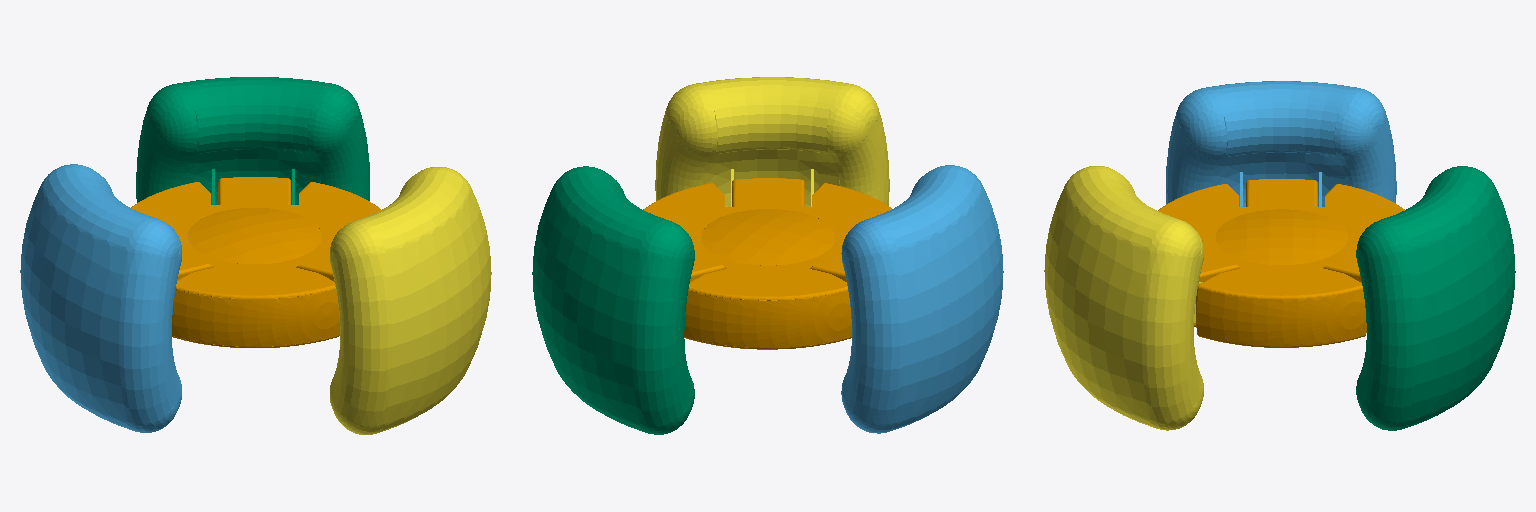
The robot description file, URDF, robot "galago_legs":
<?xml version="1.0"?>
	<!-- a test of leg, see reference from ODE discussion
      http://www.ode.org/old_list_archives/2006-March/018014.html
      where stiffness and damping are related to joint limit cfm and erp
      public static void Calc(float legConstant, float dampingCofficient, float
      sprungMass, out float erp, out float cfm)
      {
                  float r = 2.0f * dampingCofficient * (float)Math.Sqrt(sprungMass
      * legConstant);
                  float hk = Scene.OdeTimeStep * legConstant;

                  erp = hk / (hk + r);
                  cfm = 1.0f / (hk + r);
      }
      in the end,
      erp = dt * kp / ( dt * kp + kd )
      cfm = 1 / ( dt * kp + kd )
    -->

<robot name="galago_legs">
	<link name='disk'>
		<inertial>
			<origin xyz="0 0 0" rpy="0 0 1.57"/>
			<mass value="7.0"/>
			<inertia ixx="0.1" ixy="0.0" ixz="0.0" iyy="0.1" iyz="0.0" izz="0.1" />
		</inertial>
		<collision name='disk_collision'>
			<origin xyz="0 0 0" rpy="0 0 1.57"/>
			<geometry>
				<mesh filename="package://galago_gazebo_models/meshes/hopter/disk.dae" scale="0.01 0.01 0.01"/>
			</geometry>
		</collision>
		<visual name='disk_visual'>
			<origin xyz="0 0 0" rpy="0 0 1.57"/>
			<geometry>
				<mesh filename="package://galago_gazebo_models/meshes/hopter/disk.dae" scale="0.01 0.01 0.01"/>
			</geometry>
			<material name="orange"/>
		</visual>
		<gazebo>
			<static>false</static>
			<gravity>true</gravity>
			<self_collide>false</self_collide>
			<kinematic>false</kinematic>
			<velocity_decay>
				<linear>0.0</linear>
				<angular>0.0</angular>
			</velocity_decay>
			<max_contacts>250</max_contacts>
			<surface>
				<friction>
					<ode>
						<mu>0.2</mu>
						<mu2>0.2</mu2>
						<fdir1>1.0 0 0</fdir1>
						<slip1>0</slip1>
						<slip2>0</slip2>
					</ode>
				</friction>
				<contact>
					<ode>
						<kp>111.1111</kp>
						<kd>0.0</kd>
						<max_vel>10000.0</max_vel>
						<min_depth>0.0</min_depth>
					</ode>
				</contact>
			</surface>
		</gazebo>
	</link>
	
	<link name='leg_a'>
		<inertial>
			<origin xyz="0 0.11 0" rpy="0 0 0"/>
			<mass value="1.0"/>
			<inertia ixx="0.01" ixy="0.0" ixz="0.0" iyy="0.01" iyz="0.0" izz="0.01" />
		</inertial>
		<collision name='leg_a_collision'>
			<origin xyz="0 0.11 0" rpy="0 0 0"/>
			<geometry>
				<mesh filename="package://galago_gazebo_models/meshes/hopter/leg_support.dae" scale="0.01 0.01 0.01"/>
			</geometry>
			<surface>
				<bounce restitution_coefficient="1.0" threshold="0.01"/>
			</surface>
		</collision>
		<visual name='leg_a_visual'>
			<origin xyz="0 0.11 0" rpy="0 0 0"/>
			<geometry>
				<mesh filename="package://galago_gazebo_models/meshes/hopter/leg_support.dae" scale="0.01 0.01 0.01"/>
			</geometry>
			<material name="orange"/>
		</visual>
		<!--gazebo>
			<static>false</static>
			<gravity>true</gravity>
			<self_collide>false</self_collide>
			<kinematic>false</kinematic>
			<velocity_decay>
				<linear>0.0</linear>
				<angular>0.0</angular>
			</velocity_decay>
			<max_contacts>250</max_contacts>
			<surface>
				<friction>
					<ode>
						<mu>0.2</mu>
						<mu2>0.2</mu2>
						<fdir1>1.0 0 0</fdir1>
						<slip1>0</slip1>
						<slip2>0</slip2>
					</ode>
				</friction>
				<contact>
					<ode>
						<kp>111.1111</kp>
						<kd>0.0</kd>
						<max_vel>10000.0</max_vel>
						<min_depth>0.0</min_depth>
					</ode>
				</contact>
			</surface>
		</gazebo-->
	</link>
	
	<gazebo reference="leg_a">
		<mu1 value="100.0" />
		<mu2 value="0.1" />
		<!-- kp value="10000000.0" / -->
		<maxVel value="10.0"/>
		<kp value="100000000.0" />
		<kd value="1.0" />
		<fdir1 value="1 0 0" />
		<material>Gazebo/Grey</material>
		<turnGravityOff>false</turnGravityOff>
	</gazebo>
	
	<joint name="leg_a_joint" type="revolute">
		<parent link="disk"/>
		<child link="leg_a"/>
		<origin xyz="-0.095 0 0" rpy="0 1.57 1.57"/>
		<axis xyz="0 0 1"/>
		<limit lower="0" upper="0" effort="1000" velocity="10"/>
		<dynamics dumping="0.5" friction="0.0"/>
	</joint>
	
	<link name='leg_b'>
		<inertial>
			<origin xyz="0 0.11 0" rpy="0 0 0"/>
			<mass value="1.0"/>
			<inertia ixx="0.01" ixy="0.0" ixz="0.0" iyy="0.01" iyz="0.0" izz="0.01" />
		</inertial>
		<collision name='leg_b_collision'>
			<origin xyz="0 0.11 0" rpy="0 0 0"/>
			<geometry>
				<mesh filename="package://galago_gazebo_models/meshes/hopter/leg_support.dae" scale="0.01 0.01 0.01"/>
			</geometry>
			<surface>
				<bounce restitution_coefficient="1.0" threshold="0.01"/>
			</surface>
		</collision>
		<visual name='leg_b_visual'>
			<origin xyz="0 0.11 0" rpy="0 0 0"/>
			<geometry>
				<mesh filename="package://galago_gazebo_models/meshes/hopter/leg_support.dae" scale="0.01 0.01 0.01"/>
			</geometry>
			<material name="orange"/>
		</visual>
		<!--gazebo>
			<static>false</static>
			<gravity>true</gravity>
			<self_collide>false</self_collide>
			<kinematic>false</kinematic>
			<velocity_decay>
				<linear>0.0</linear>
				<angular>0.0</angular>
			</velocity_decay>
			<max_contacts>250</max_contacts>
			<surface>
				<friction>
					<ode>
						<mu>0.2</mu>
						<mu2>0.2</mu2>
						<fdir1>1.0 0 0</fdir1>
						<slip1>0</slip1>
						<slip2>0</slip2>
					</ode>
				</friction>
				<contact>
					<ode>
						<kp>111.1111</kp>
						<kd>0.0</kd>
						<max_vel>10000.0</max_vel>
						<min_depth>0.0</min_depth>
					</ode>
				</contact>
			</surface>
		</gazebo-->
	</link>
	
	<gazebo reference="leg_b">
		<mu1 value="100.0" />
		<mu2 value="0.1" />
		<!-- kp value="10000000.0" / -->
		<maxVel value="10.0"/>
		<kp value="100000000.0" />
		<kd value="1.0" />
		<fdir1 value="1 0 0" />
		<material>Gazebo/Grey</material>
		<turnGravityOff>false</turnGravityOff>
	</gazebo>
	
	<joint name="leg_b_joint" type="revolute">
		<parent link="disk"/>
		<child link="leg_b"/>
		<origin xyz="0.05 0.09 0" rpy="0 1.57 -0.52"/>
		<axis xyz="0 0 1"/>
		<limit lower="0" upper="0" effort="1000" velocity="10"/>
		<dynamics dumping="0.5" friction="0.0"/>
	</joint>

	<link name='leg_c'>
		<inertial>
			<origin xyz="0 0.11 0" rpy="0 0 0"/>
			<mass value="1.0"/>
			<inertia ixx="0.01" ixy="0.0" ixz="0.0" iyy="0.01" iyz="0.0" izz="0.01" />
		</inertial>
		<collision name='leg_c_collision'>
			<origin xyz="0 0.11 0" rpy="0 0 0"/>
			<geometry>
				<mesh filename="package://galago_gazebo_models/meshes/hopter/leg_support.dae" scale="0.01 0.01 0.01"/>
			</geometry>
			<surface>
				<bounce restitution_coefficient="1.0" threshold="0.01"/>
			</surface>
		</collision>
		<visual name='leg_c_visual'>
			<origin xyz="0 0.11 0" rpy="0 0 0"/>
			<geometry>
				<mesh filename="package://galago_gazebo_models/meshes/hopter/leg_support.dae" scale="0.01 0.01 0.01"/>
			</geometry>
			<material name="orange"/>
		</visual>
		<!--gazebo>
			<static>false</static>
			<gravity>true</gravity>
			<self_collide>false</self_collide>
			<kinematic>false</kinematic>
			<velocity_decay>
				<linear>0.0</linear>
				<angular>0.0</angular>
			</velocity_decay>
			<max_contacts>250</max_contacts>
			<surface>
				<friction>
					<ode>
						<mu>0.2</mu>
						<mu2>0.2</mu2>
						<fdir1>1.0 0 0</fdir1>
						<slip1>0</slip1>
						<slip2>0</slip2>
					</ode>
				</friction>
				<contact>
					<ode>
						<kp>111.1111</kp>
						<kd>0.0</kd>
						<max_vel>10000.0</max_vel>
						<min_depth>0.0</min_depth>
					</ode>
				</contact>
			</surface>
		</gazebo-->
	</link>
	
	<gazebo reference="leg_c">
		<mu1 value="100.0" />
		<mu2 value="0.1" />
		<!-- kp value="10000000.0" / -->
		<maxVel value="10.0"/>
		<kp value="100000000.0" />
		<kd value="1.0" />
		<fdir1 value="1 0 0" />
		<material>Gazebo/Grey</material>
		<turnGravityOff>false</turnGravityOff>
	</gazebo>
	
	<joint name="leg_c_joint" type="revolute">
		<parent link="disk"/>
		<child link="leg_c"/>
		<origin xyz="0.05 -0.09 0" rpy="0 1.57 -2.6176"/>
		<axis xyz="0 0 1"/>
		<limit lower="0" upper="0" effort="1000" velocity="10"/>
		<dynamics dumping="0.5" friction="0.0"/>
	</joint>

</robot>

--- What the picture shows (computed from the rendered views, not written in the file) ---
3 views of the same robot in one strip: view 1: azimuth 30°, elevation 25°; view 2: azimuth 150°, elevation 25°; view 3: azimuth 270°, elevation 25° (orthographic).
Model galago_legs with 4 links and 3 joints (3 revolute), rooted at disk, posed all joints at 0.
Visible links, largest first — view 1: leg_a, leg_c, disk, leg_b; view 2: leg_b, leg_a, disk, leg_c; view 3: leg_c, leg_b, disk, leg_a.
Link boxes in pixels (x1,y1,x2,y2): leg_a: (20, 164, 181, 432); leg_c: (330, 167, 491, 434); disk: (131, 177, 380, 347); leg_b: (136, 77, 369, 204); leg_b: (532, 166, 694, 434); leg_a: (841, 165, 1003, 433); disk: (643, 178, 891, 349); leg_c: (655, 77, 889, 206); leg_c: (1044, 166, 1203, 430); leg_b: (1356, 166, 1515, 430); disk: (1158, 179, 1404, 347); leg_a: (1166, 81, 1396, 206).
Bounding box of the posed robot: 0.5952 × 0.6549 × 0.3168 m (x, y, z).
4 mesh visuals loaded from 2 distinct referenced files (2 Collada DAE).
